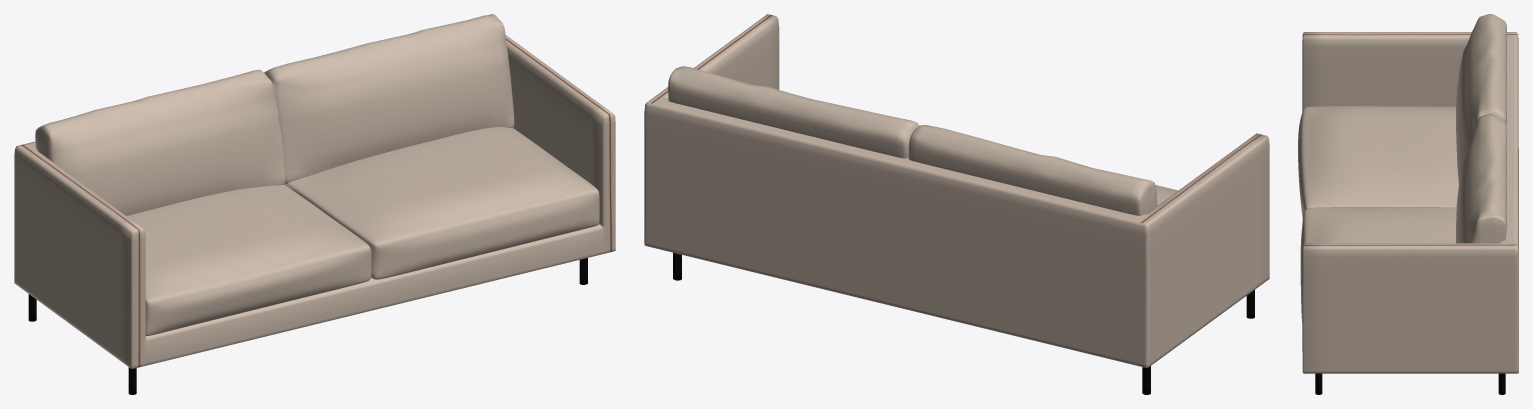
Rendered from white_couch.glb.
3 views of the same model, side by side, from view 1: azimuth 30°, elevation 25°; view 2: azimuth 150°, elevation 25°; view 3: azimuth 270°, elevation 25° (orthographic). The views are drawn at different scales.
Visible parts, largest first — view 1: Cylinder002_1001_2; view 2: Cylinder002_1001_2; view 3: Cylinder002_1001_2.
Boxes of the visible parts, left/top/right/bottom form: Cylinder002_1001_2: left=14, top=14, right=615, bottom=394; Cylinder002_1001_2: left=644, top=14, right=1269, bottom=394; Cylinder002_1001_2: left=1298, top=14, right=1518, bottom=394.
Size of the model in its own units: 216 by 84.85 by 92.89.
2 materials, 2 textured.
